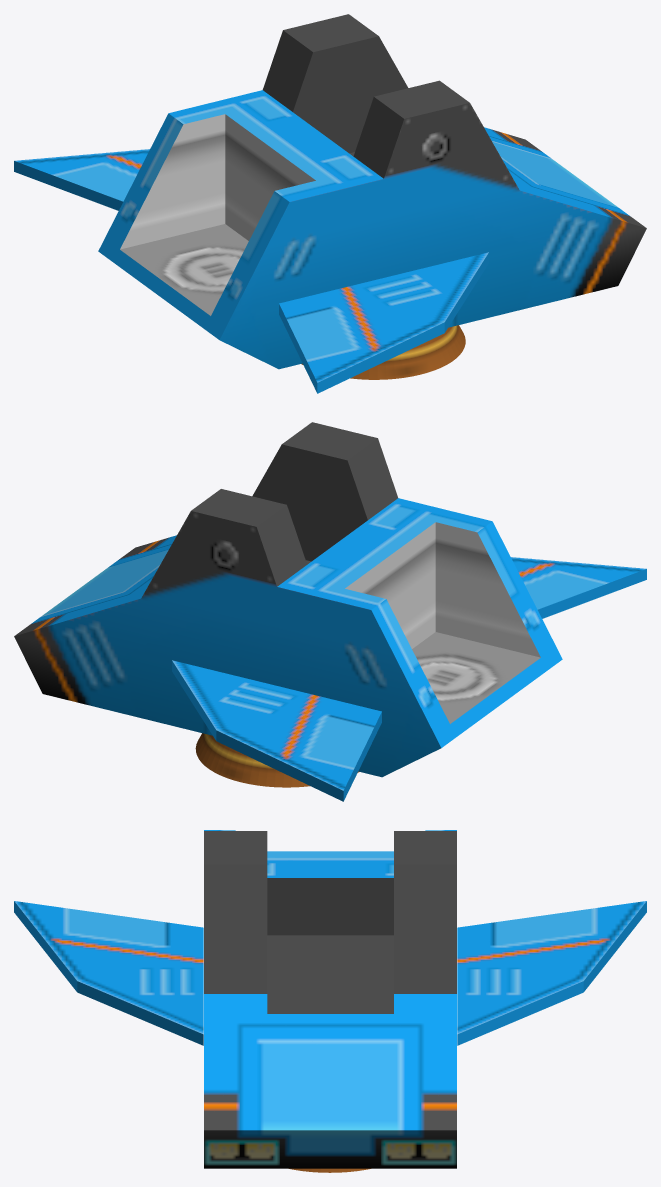
File: lem1f.obj
3 renders of one model, top to bottom at view 1: azimuth 30°, elevation 25°; view 2: azimuth 150°, elevation 25°; view 3: azimuth 270°, elevation 25°, orthographic. The views are drawn at different scales.
Parts seen in each view (by area): view 1: Case_ColobotMesh_.001, Wing_Right_ColobotMesh_, Wing_Left_ColobotMesh_.002, Nozzle_new_Cylinder; view 2: Case_ColobotMesh_.001, Wing_Left_ColobotMesh_.002, Wing_Right_ColobotMesh_, Nozzle_new_Cylinder; view 3: Case_ColobotMesh_.001, Wing_Left_ColobotMesh_.002, Wing_Right_ColobotMesh_.
Boxes of the visible parts, left/top/right/bottom form: Case_ColobotMesh_.001: left=98, top=14, right=646, bottom=369; Wing_Right_ColobotMesh_: left=279, top=252, right=488, bottom=393; Wing_Left_ColobotMesh_.002: left=14, top=149, right=149, bottom=210; Nozzle_new_Cylinder: left=301, top=325, right=465, bottom=379; Case_ColobotMesh_.001: left=14, top=422, right=562, bottom=777; Wing_Left_ColobotMesh_.002: left=172, top=660, right=381, bottom=801; Wing_Right_ColobotMesh_: left=511, top=557, right=646, bottom=618; Nozzle_new_Cylinder: left=195, top=733, right=359, bottom=787; Case_ColobotMesh_.001: left=204, top=830, right=456, bottom=1168; Wing_Left_ColobotMesh_.002: left=457, top=901, right=646, bottom=1045; Wing_Right_ColobotMesh_: left=14, top=901, right=203, bottom=1045.
Bounding box in the file's own units: 8.14 × 4.99 × 10.01.
